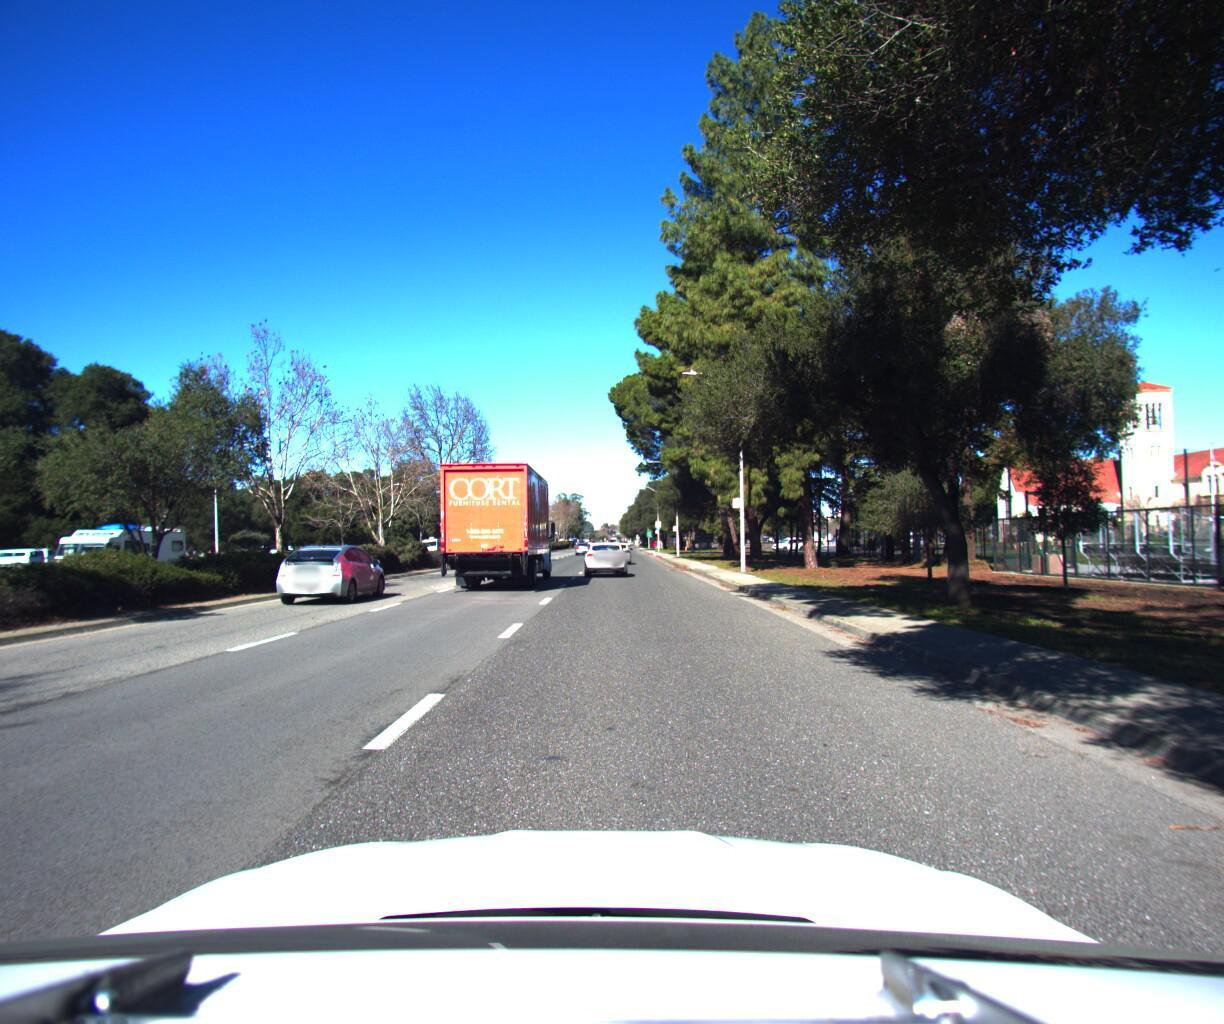car: (267, 525, 397, 599), (580, 532, 630, 569), (600, 531, 630, 557), (575, 531, 594, 546)
other_vehicle: (45, 513, 199, 585)
truck: (431, 447, 566, 586)
